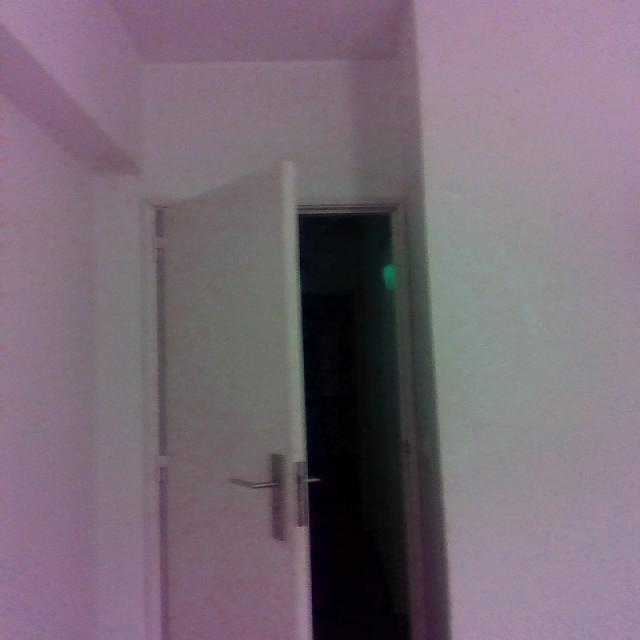door: (134, 152, 428, 640)
